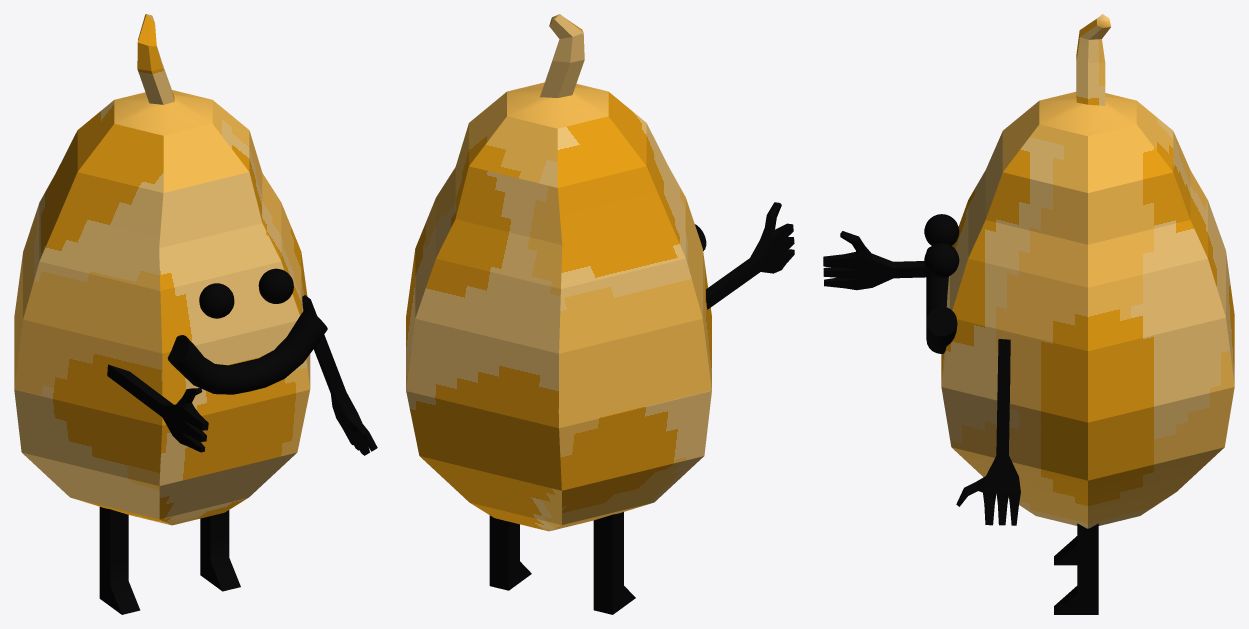
Rendered from CharacterPotatoEternal.glb.
3 views of the same model, side by side, from view 1: azimuth 30°, elevation 25°; view 2: azimuth 150°, elevation 25°; view 3: azimuth 270°, elevation 25° (orthographic). The views are drawn at different scales.
Visible parts, largest first — view 1: Mesh_4, Mesh_5, Mesh_3, Mesh_1, Mesh_0, Mesh_2, Mesh_7, Mesh_6; view 2: Mesh_4, Mesh_3, Mesh_1, Mesh_2; view 3: Mesh_4, Mesh_0, Mesh_1, Mesh_2, Mesh_5, Mesh_6, Mesh_7.
Boxes of the visible parts, x1,y1,x2,y2 form: Mesh_4: (14,14,310,525); Mesh_5: (167,307,327,394); Mesh_3: (99,507,140,614); Mesh_1: (107,364,208,452); Mesh_0: (302,295,377,455); Mesh_2: (200,510,240,591); Mesh_7: (199,283,234,318); Mesh_6: (258,268,293,303); Mesh_4: (406,14,711,531); Mesh_3: (593,512,635,614); Mesh_1: (706,202,794,309); Mesh_2: (489,515,531,590); Mesh_4: (941,14,1234,528); Mesh_0: (956,339,1020,525); Mesh_1: (823,231,926,290); Mesh_2: (1054,523,1098,614); Mesh_5: (926,246,957,353); Mesh_6: (924,243,959,277); Mesh_7: (924,214,959,245).
Bounding box in the file's own units: 578 × 1037 × 682.
Materials: 2 (1 with a texture image).
